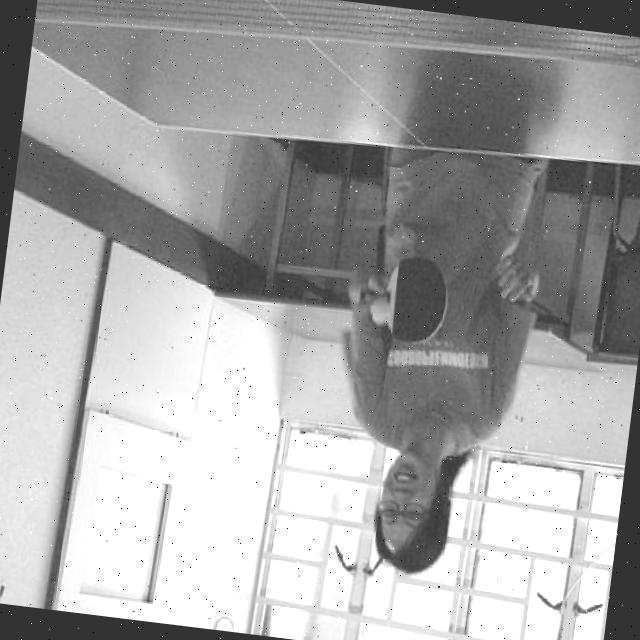ping-pong-ball: (368, 294, 392, 327)
